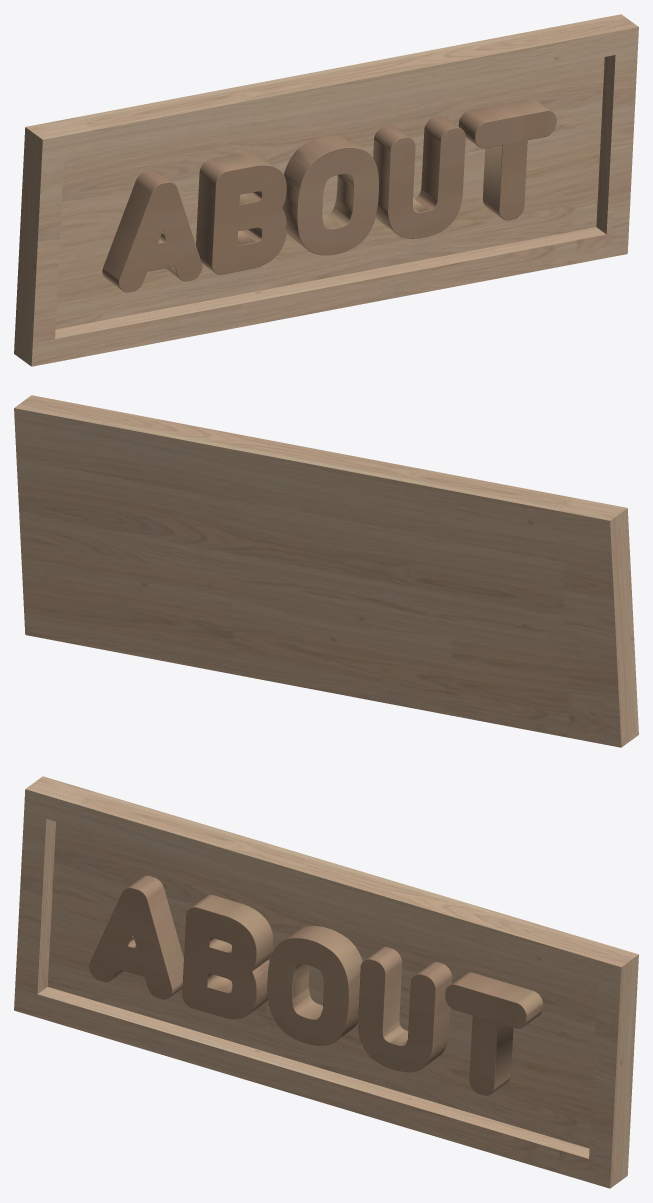
Rendered from signAbout.glb.
The picture shows the model from 3 angles, top to bottom: view 1: azimuth 30°, elevation 25°; view 2: azimuth 150°, elevation 25°; view 3: azimuth 330°, elevation 25°; orthographic projection.
Parts seen in each view (by area): view 1: signage_about; view 2: signage_about; view 3: signage_about.
Part boxes in pixels (x1=…): signage_about: x1=14, y1=14, x2=638, y2=366; signage_about: x1=14, y1=395, x2=638, y2=747; signage_about: x1=14, y1=776, x2=638, y2=1188.
Size of the model in its own units: 0.8007 by 0.3236 by 0.0544.
1 material, 1 textured.
